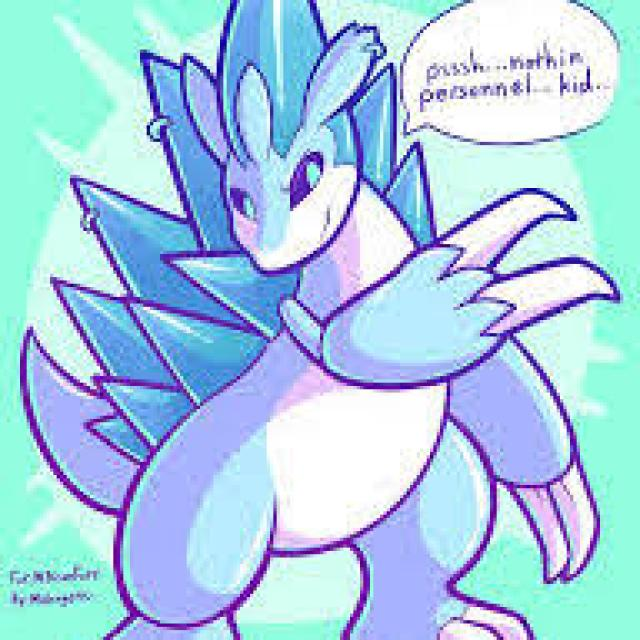Alolan: (101, 30, 517, 631)
